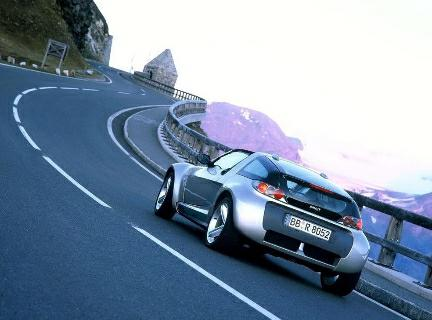smart-roadster: (146, 134, 379, 309)
